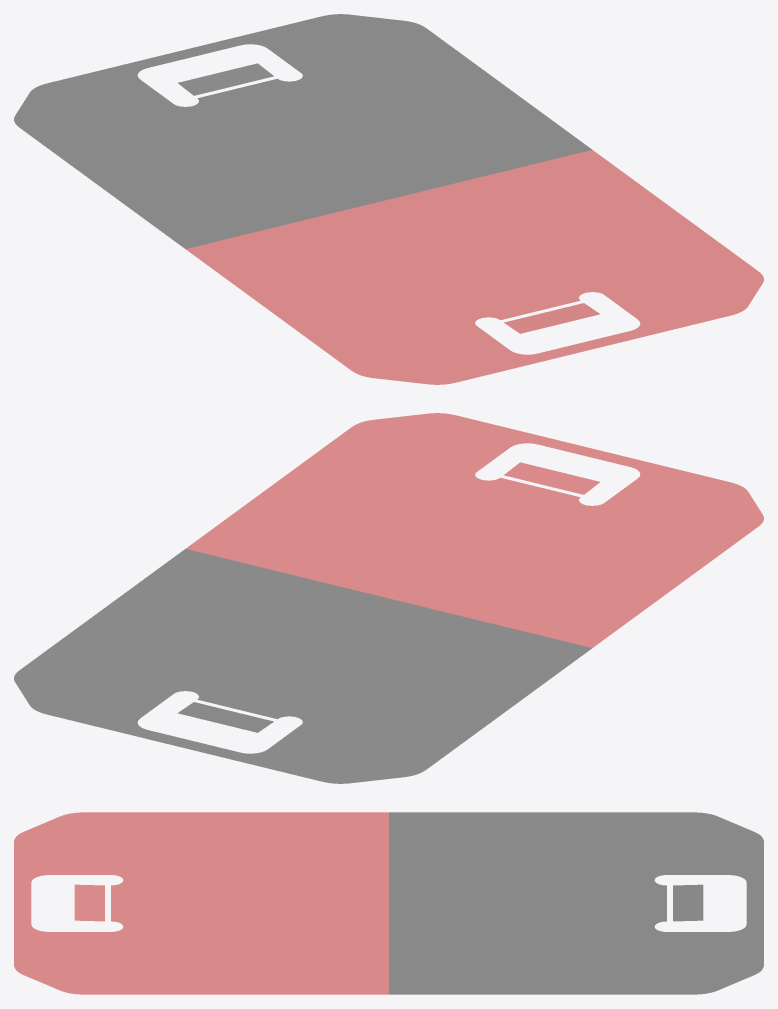
Rendered from LongField_Floor.gltf.
The picture shows the model from 3 angles, top to bottom: view 1: azimuth 30°, elevation 25°; view 2: azimuth 150°, elevation 25°; view 3: azimuth 270°, elevation 25°; orthographic projection. The views are drawn at different scales.
Parts seen in each view (by area): view 1: LongField_Floor; view 2: LongField_Floor; view 3: LongField_Floor.
Part boxes in pixels (box(x1,y1,x2,y2)): LongField_Floor: box(14, 14, 763, 384); LongField_Floor: box(14, 413, 763, 783); LongField_Floor: box(14, 812, 763, 994).
Bounding box in the file's own units: 76.12 × 0.164 × 132.
